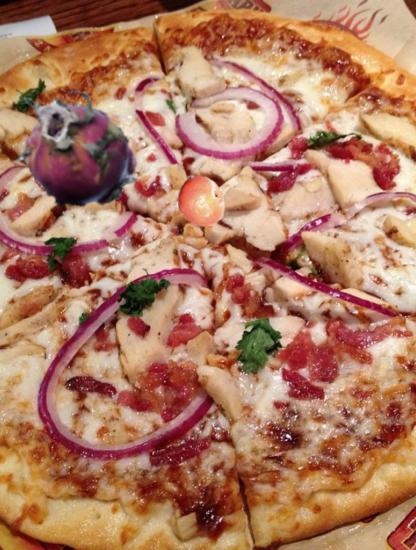Clementine: (173, 173, 228, 228)
Pitahaya: (1, 78, 146, 223)
